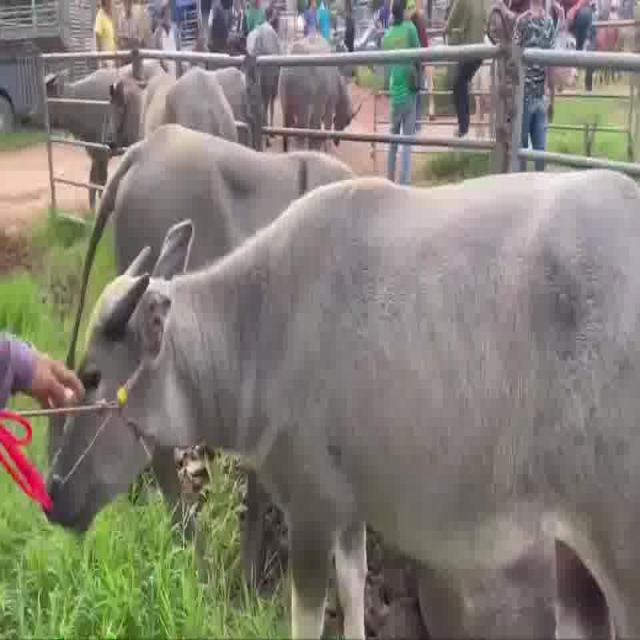buffalo: (91, 109, 262, 274), (275, 22, 342, 133)
